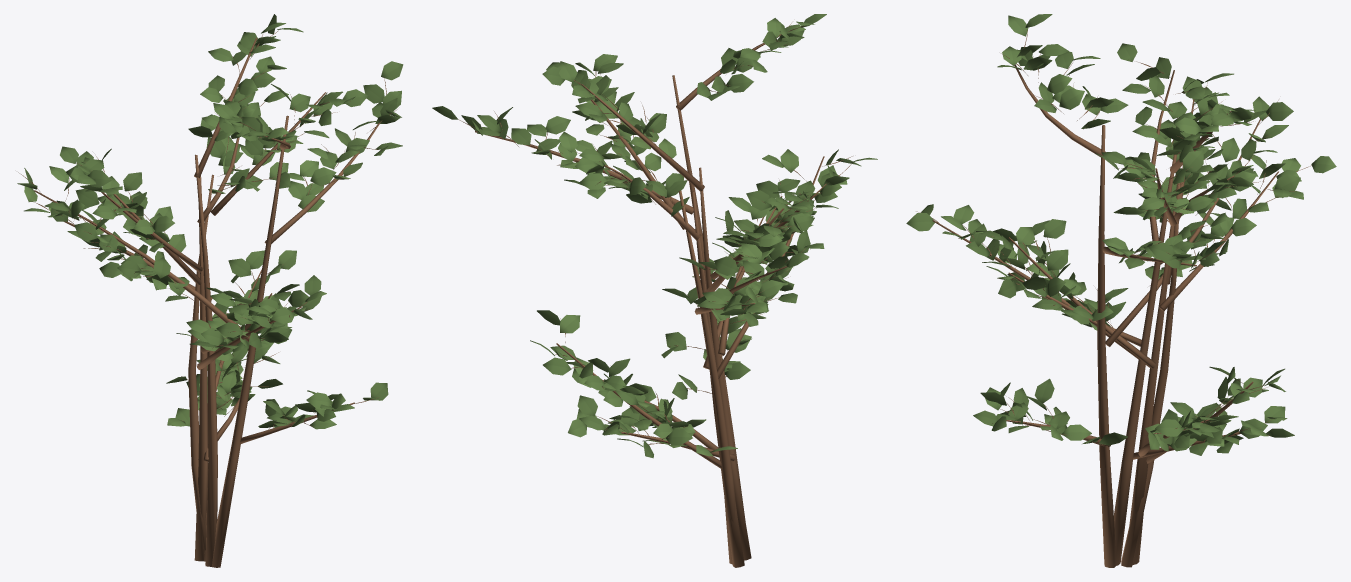
File: Arbousier_2_LOD1.fbx
3 renders of one model, left to right at view 1: azimuth 30°, elevation 25°; view 2: azimuth 150°, elevation 25°; view 3: azimuth 270°, elevation 25°, orthographic. The views are drawn at different scales.
Parts seen in each view (by area): view 1: Arbousier_2_LOD1; view 2: Arbousier_2_LOD1; view 3: Arbousier_2_LOD1.
Part boxes in pixels (x1=…): Arbousier_2_LOD1: x1=17, y1=14, x2=403, y2=567; Arbousier_2_LOD1: x1=432, y1=14, x2=877, y2=567; Arbousier_2_LOD1: x1=906, y1=14, x2=1336, y2=567.
Size of the model in its own units: 320 by 401 by 291.
